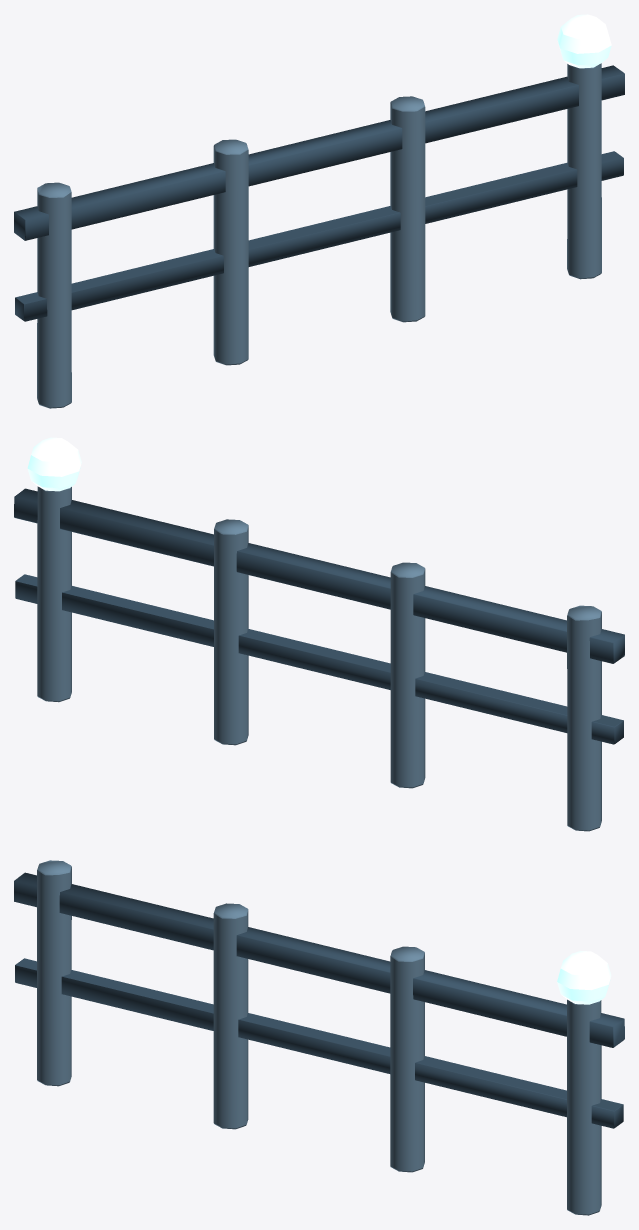
The model's file is SM_Rheinufer_Railing_LOD2.fbx.
3 views of the same model, one above another, from view 1: azimuth 30°, elevation 25°; view 2: azimuth 150°, elevation 25°; view 3: azimuth 330°, elevation 25° (orthographic).
Visible parts, largest first — view 1: SM_Rheinufer_Railing_LOD2; view 2: SM_Rheinufer_Railing_LOD2; view 3: SM_Rheinufer_Railing_LOD2.
Part boxes in pixels (x1,y1,x2,y2): SM_Rheinufer_Railing_LOD2: [14, 14, 624, 408]; SM_Rheinufer_Railing_LOD2: [14, 437, 624, 831]; SM_Rheinufer_Railing_LOD2: [14, 860, 624, 1215].
Bounding box in the file's own units: 3.4 × 1.38 × 0.2767.
